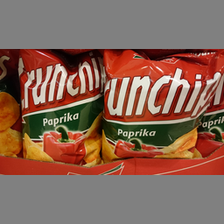chips: (102, 53, 224, 163), (19, 52, 102, 167)
